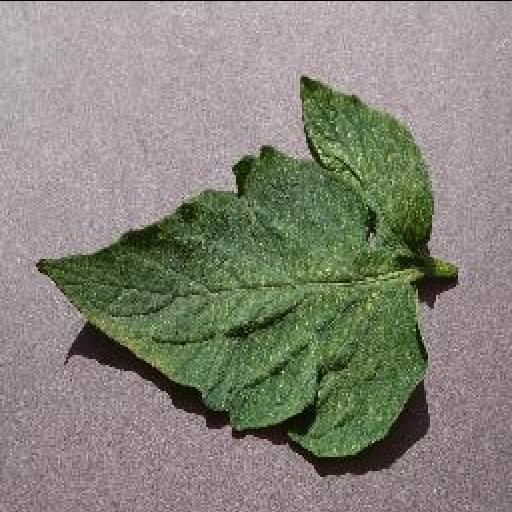disease_tomato: (32, 76, 436, 456)
